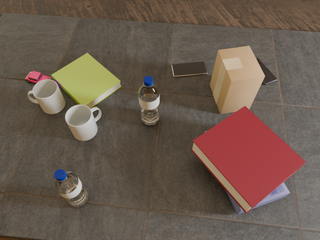book: (191, 106, 306, 213), (51, 53, 121, 109)
bottle: (54, 169, 89, 207), (139, 76, 160, 126)
box: (210, 46, 265, 114)
cup: (65, 104, 101, 141), (28, 79, 65, 114)
phone: (256, 58, 277, 85), (172, 62, 207, 77)
toy_car: (25, 71, 51, 84)
